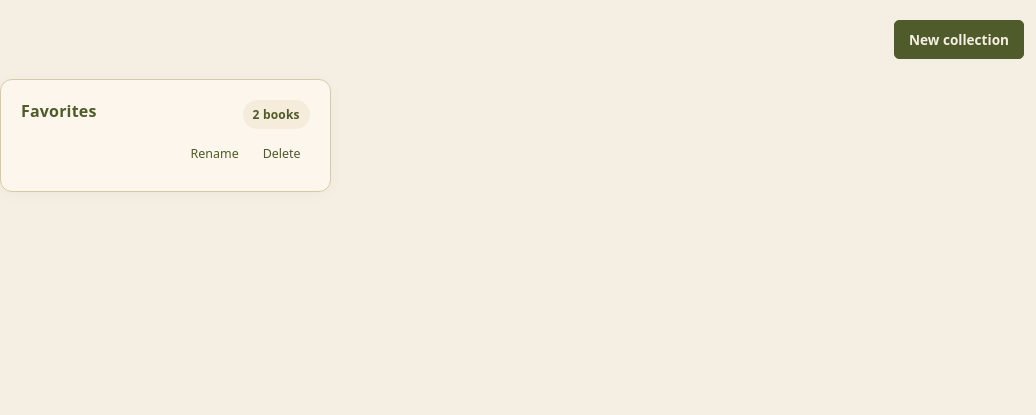
it: CollectionsManager › ignores a preexisting refresh after a successful create and reloads confirmed data
expect the link "Favorites" is shown: met, box x1=21 y1=100 x2=97 y2=122
Click the button "New collection" at coordinates (959, 40), box x1=894 y1=20 x2=1024 y2=59
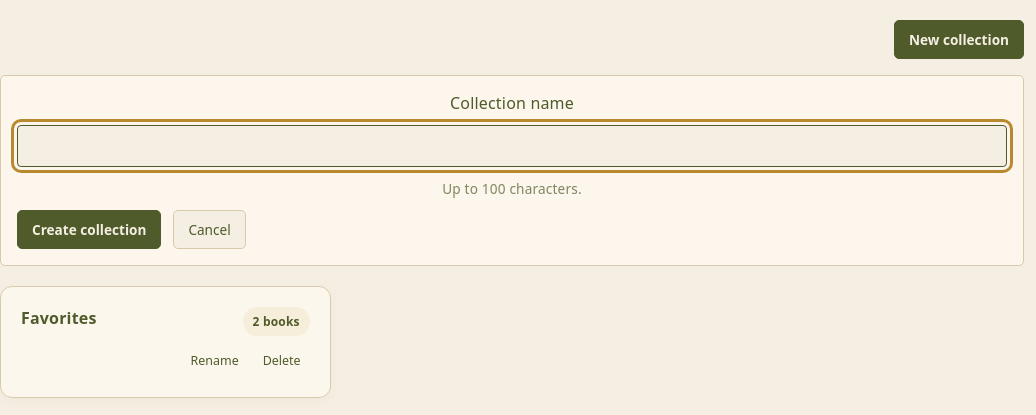
Type "Updated" into the field labelled "Collection name" at coordinates (512, 146), box x1=17 y1=125 x2=1007 y2=167
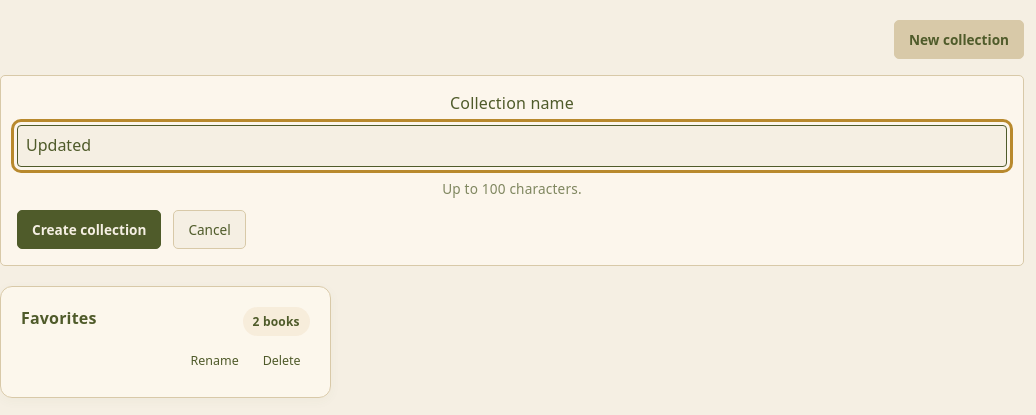
Click the button "Create collection" at coordinates (89, 229), box x1=17 y1=210 x2=161 y2=249
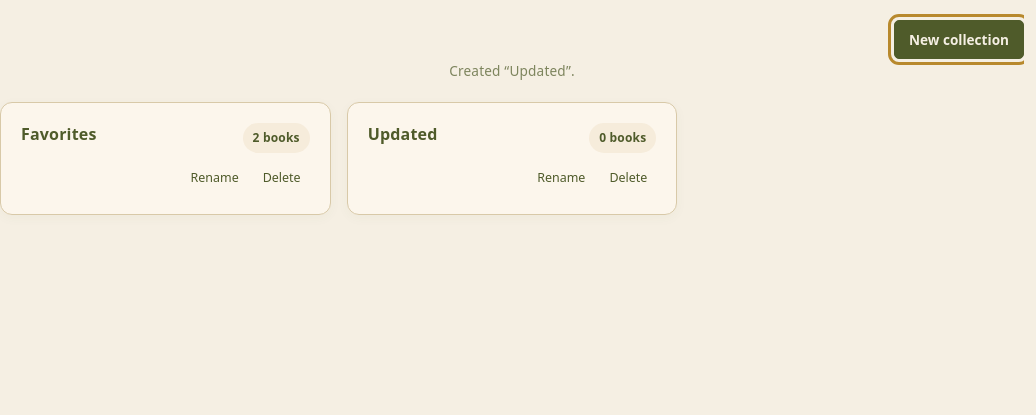
expect the link "Updated" is shown: met, box x1=368 y1=123 x2=438 y2=145
expect the message shows "Created “Updated”": met, box x1=449 y1=61 x2=575 y2=80
